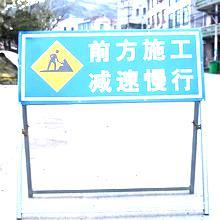sign: (19, 32, 202, 98)
